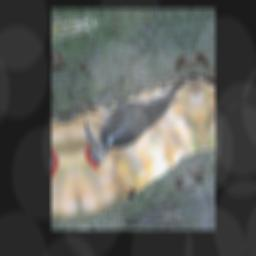Woodpecker: (75, 76, 205, 173)
